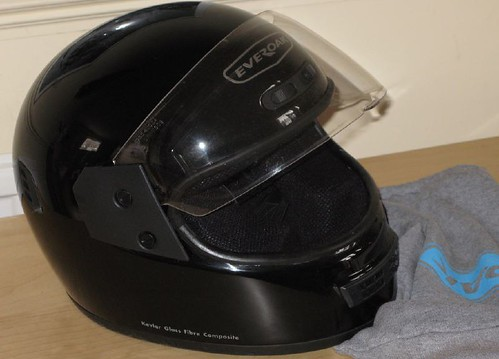helmet: (12, 3, 418, 351)
